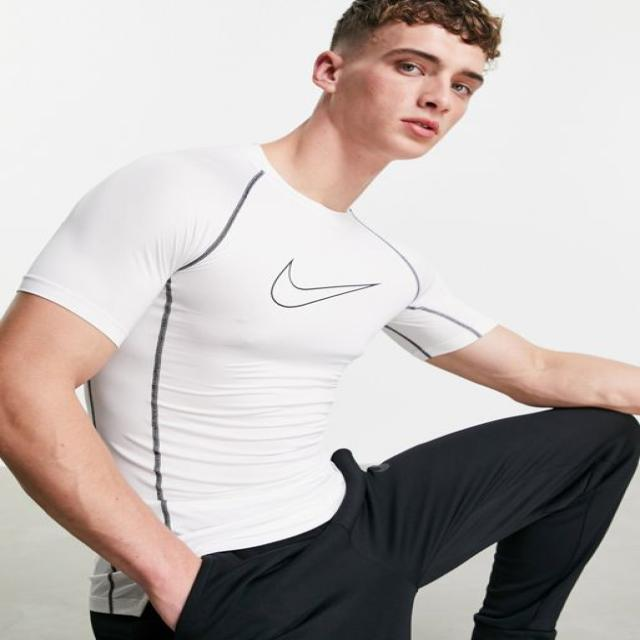tshirt: (16, 140, 497, 608)
